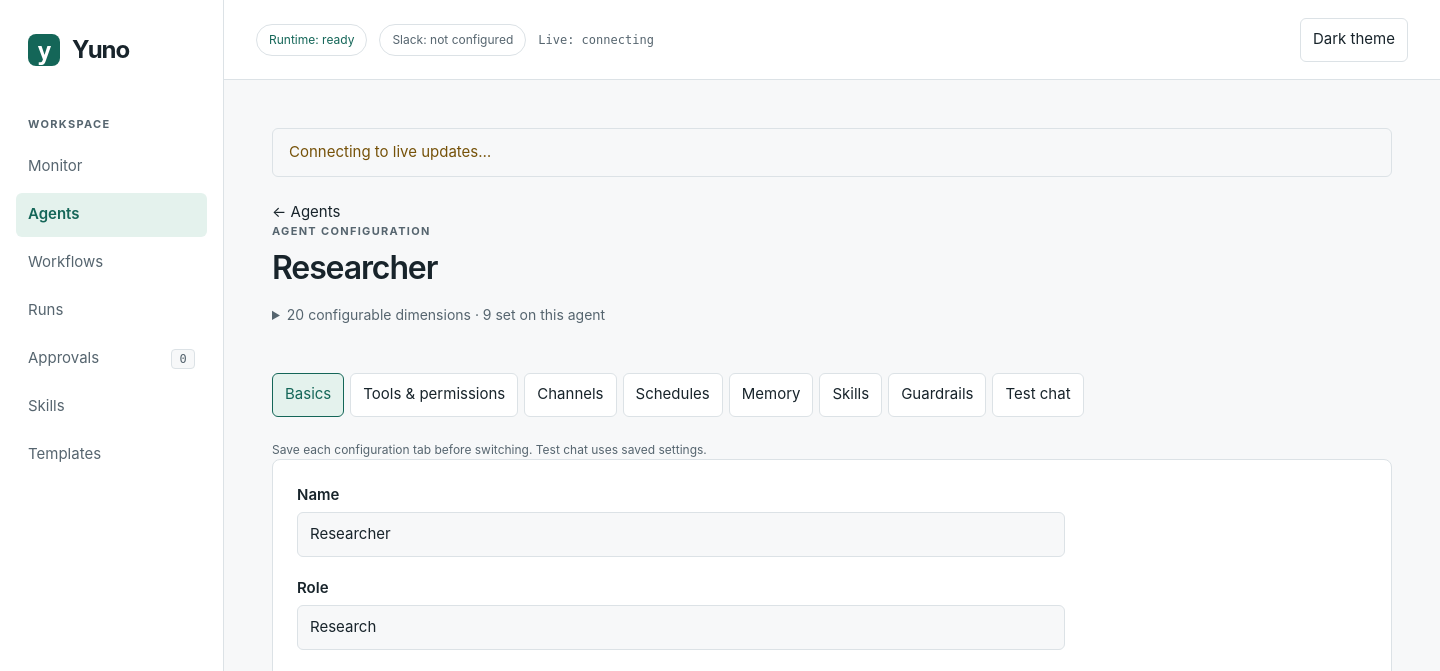
it: T16 agent editor (R-01, R-02, R-03, R-04, R-05, R-20) › R-02 T22 shows the approved model pool labels and deployment toggle
The width and height of the screenshot is (1440, 671).
Expected: the field labelled "Name" is shown, 297,512 -> 1065,556
Click the tab "Tools & permissions" at (434, 394), box 350,372 -> 518,416
(page scrolled)
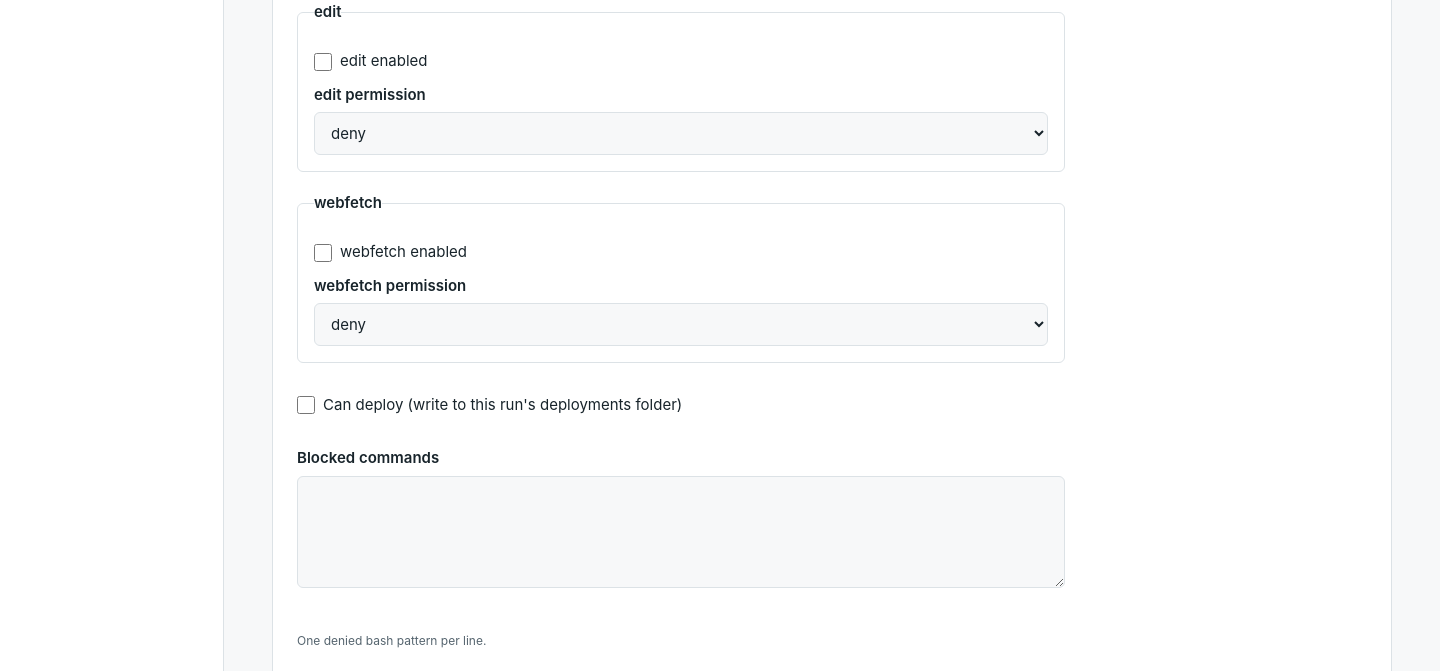
Expected: the checkbox labelled "Can deploy (write to this run's deployments folder)" is shown, 297,396 -> 315,414
